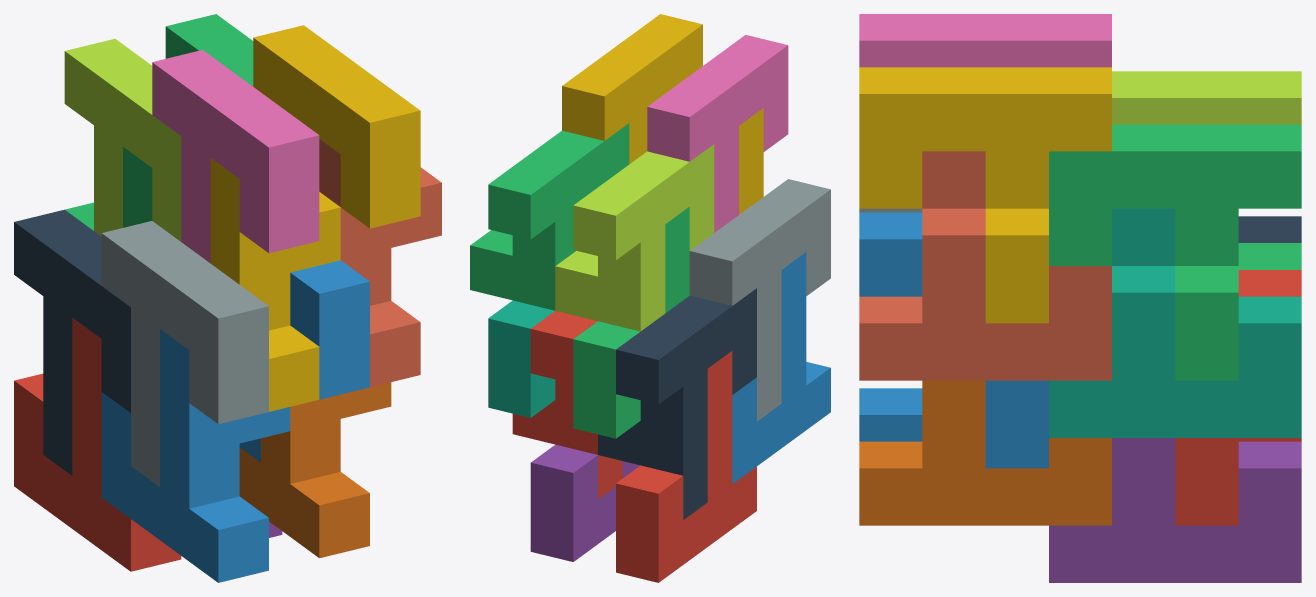
File: tiling.obj
3 views of the same model, side by side, from view 1: azimuth 30°, elevation 25°; view 2: azimuth 150°, elevation 25°; view 3: azimuth 270°, elevation 25° (orthographic). The views are drawn at different scales.
Parts seen in each view (by area): view 1: copy_2_domain_2, copy_1_domain_2, copy_2_domain_4, copy_2_domain_8, copy_2_domain_1, copy_1_domain_6, copy_1_domain_1, copy_2_domain_3, copy_1_domain_4, copy_1_domain_8, copy_2_domain_6, copy_2_domain_7 (+1 smaller); view 2: copy_2_domain_3, copy_2_domain_1, copy_2_domain_7, copy_2_domain_2, copy_1_domain_1, copy_2_domain_4, copy_2_domain_8, copy_1_domain_2, copy_1_domain_5, copy_1_domain_3, copy_2_domain_5, copy_1_domain_7 (+1 smaller); view 3: copy_2_domain_8, copy_2_domain_7, copy_1_domain_7, copy_1_domain_8, copy_1_domain_5, copy_1_domain_6, copy_2_domain_4, copy_2_domain_6, copy_2_domain_3, copy_2_domain_5, copy_1_domain_2, copy_1_domain_3 (+1 smaller).
Part boxes in pixels (x1,y1,x2,y2): copy_2_domain_2: [101, 221, 268, 486]; copy_1_domain_2: [101, 329, 290, 582]; copy_2_domain_4: [152, 50, 319, 263]; copy_2_domain_8: [253, 25, 420, 228]; copy_2_domain_1: [14, 209, 130, 475]; copy_1_domain_6: [239, 382, 391, 558]; copy_1_domain_1: [14, 317, 181, 571]; copy_2_domain_3: [64, 38, 181, 241]; copy_1_domain_4: [210, 158, 340, 411]; copy_1_domain_8: [319, 139, 441, 387]; copy_2_domain_6: [239, 260, 369, 462]; copy_2_domain_7: [165, 14, 253, 86]; copy_2_domain_3: [555, 144, 714, 331]; copy_2_domain_1: [598, 288, 756, 519]; copy_2_domain_7: [470, 123, 629, 310]; copy_2_domain_2: [689, 179, 830, 421]; copy_1_domain_1: [616, 351, 756, 582]; copy_2_domain_4: [647, 35, 788, 232]; copy_2_domain_8: [562, 14, 702, 163]; copy_1_domain_2: [732, 252, 830, 483]; copy_1_domain_5: [530, 444, 639, 561]; copy_1_domain_3: [573, 207, 689, 438]; copy_2_domain_5: [512, 311, 622, 499]; copy_1_domain_7: [488, 300, 555, 417]; copy_2_domain_8: [859, 67, 1111, 323]; copy_2_domain_7: [1049, 124, 1301, 380]; copy_1_domain_7: [1049, 208, 1301, 437]; copy_1_domain_8: [859, 151, 1111, 380]; copy_1_domain_5: [1049, 438, 1301, 582]; copy_1_domain_6: [859, 380, 1111, 525]; copy_2_domain_4: [859, 14, 1111, 67]; copy_2_domain_6: [859, 212, 1048, 468]; copy_2_domain_3: [1112, 71, 1301, 124]; copy_2_domain_5: [1175, 270, 1301, 525]; copy_1_domain_2: [859, 388, 922, 441]; copy_1_domain_3: [1238, 243, 1301, 269].
Bounding box in the file's own units: 5 × 9 × 7.
